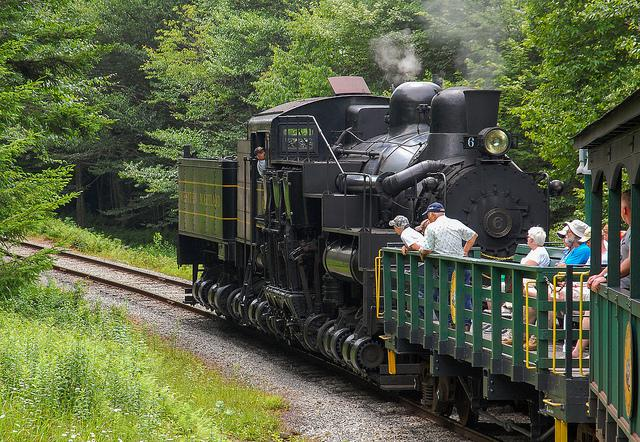Train: (175, 77, 640, 434)
